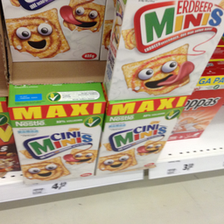cereal: (104, 1, 224, 100), (7, 82, 105, 182), (96, 100, 187, 175)
